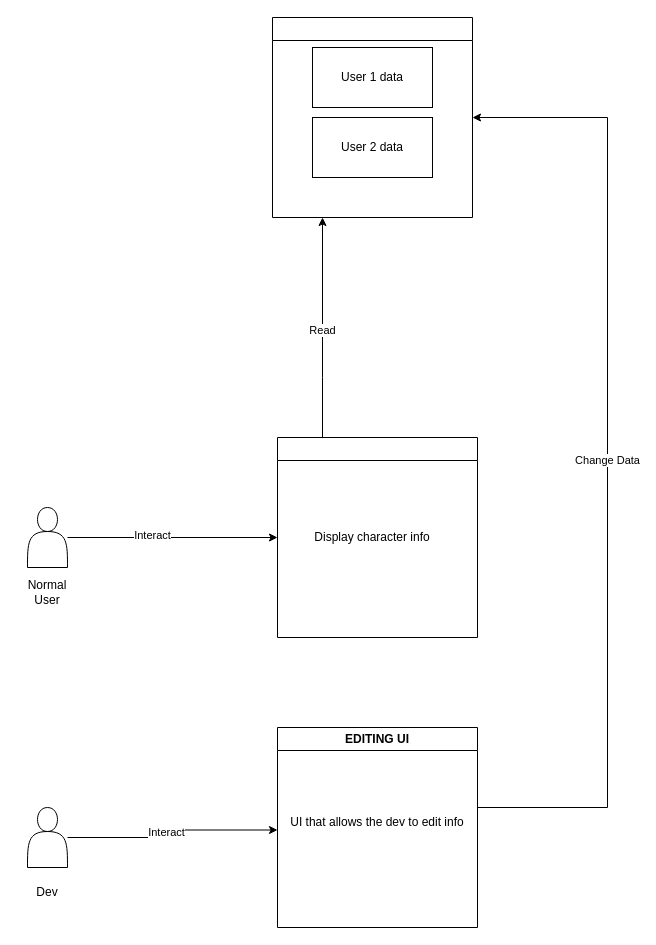
Some shapes in this 656 by 945 pixel diagram are drawn without their labels. The shapes that lost their labels are listed below. From the top down, each one's box as (x1, y1, x2, y2) in pixels, then its label:
(272, 16, 472, 218): TS DATA FILES
(276, 436, 478, 638): FRONTEND UI
